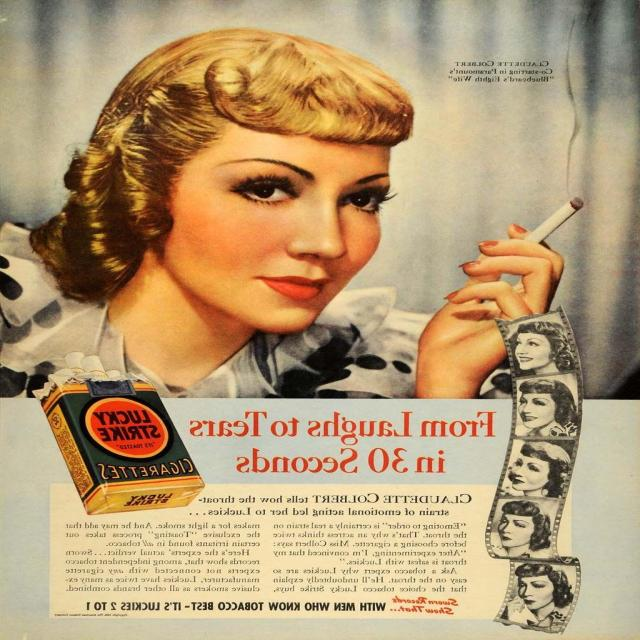smoking: (459, 161, 618, 307)
